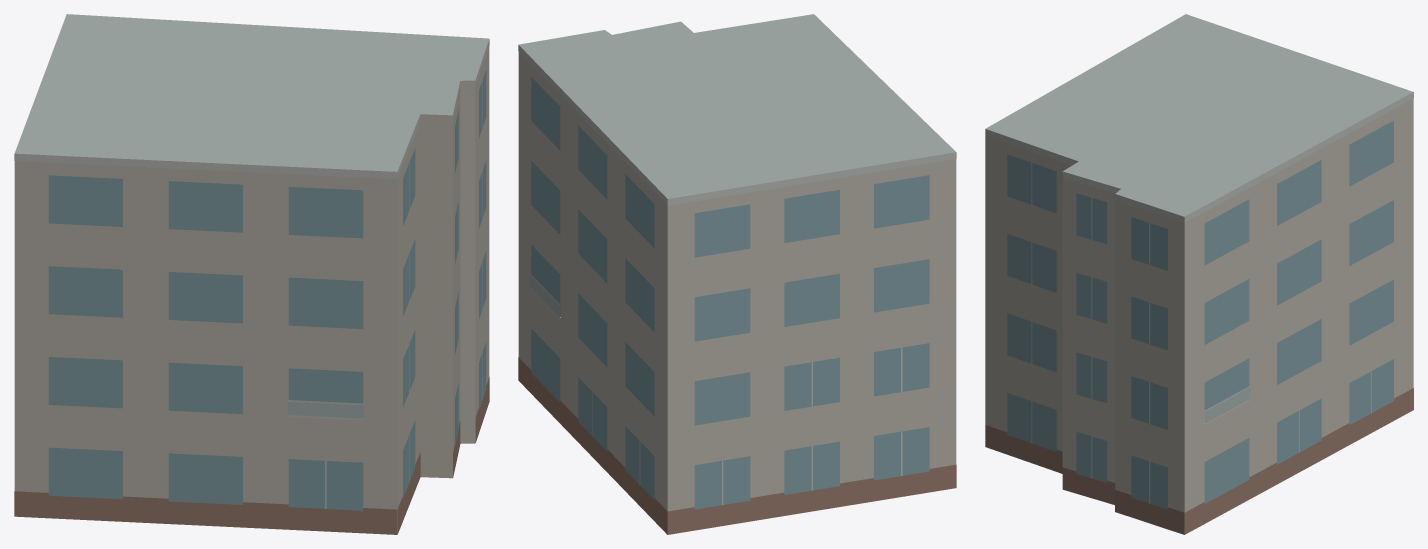
The model's file is survey-upis-32684135.glb.
3 renders of one model, left to right at view 1: azimuth 30°, elevation 25°; view 2: azimuth 150°, elevation 25°; view 3: azimuth 270°, elevation 25°, orthographic. The views are drawn at different scales.
Visible parts, largest first — view 1: survey-upis-32684135.tmp; view 2: survey-upis-32684135.tmp; view 3: survey-upis-32684135.tmp.
Boxes of the visible parts, x1,y1,x2,y2 form: survey-upis-32684135.tmp: [14, 14, 489, 534]; survey-upis-32684135.tmp: [518, 14, 956, 534]; survey-upis-32684135.tmp: [985, 14, 1413, 534].
Size of the model in its own units: 16.69 by 12.2 by 14.9.
